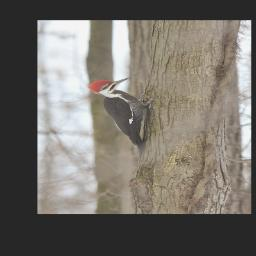Woodpecker: (87, 77, 159, 163)
